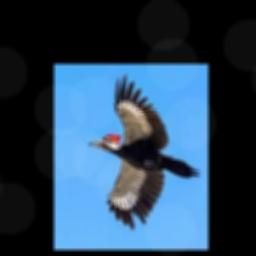Woodpecker: (88, 72, 201, 230)
